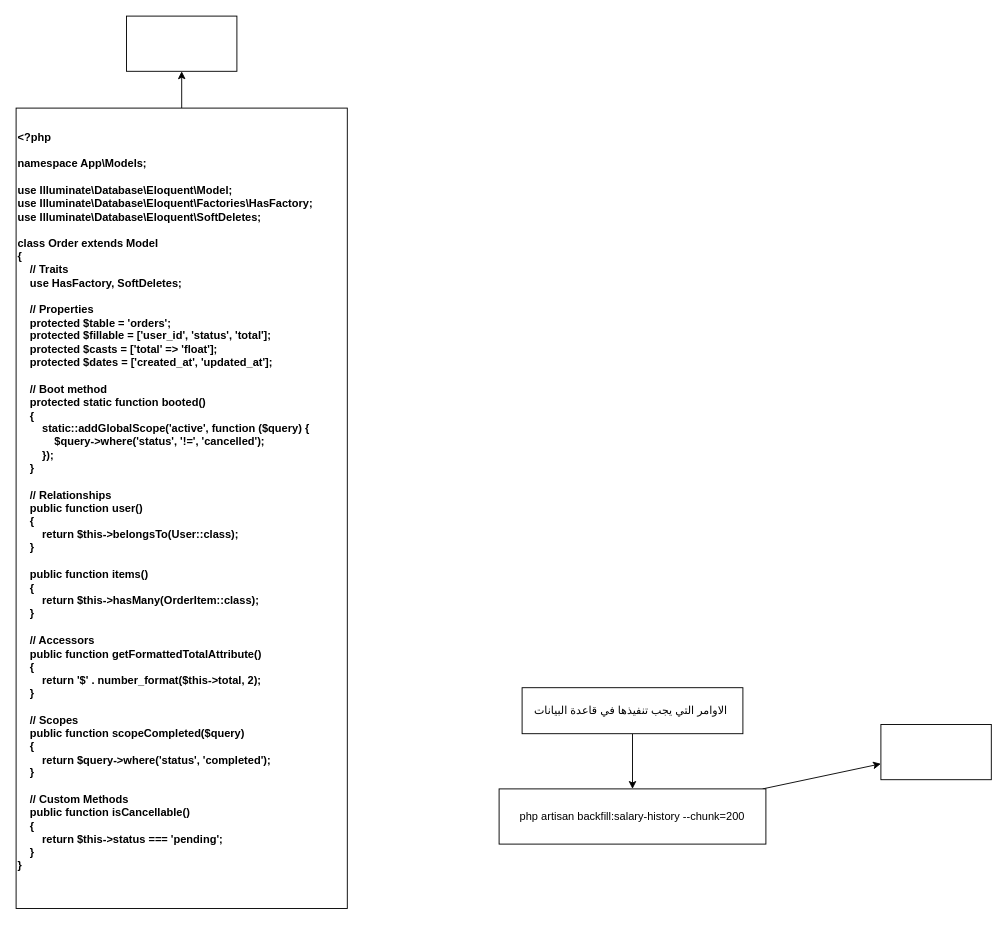
This 1007x925 diagram has some shape labels left out. The box of each missing label's shape, as (x1, y1, x2, y2) in pixels:
ترتيب الدوال في الموديل: (126, 15, 237, 71)
لاضافة السجل التاريخي لكل موظف ثم بعد ذلك قم بحذف الامر وكل مايتعلق به: (880, 724, 991, 780)
